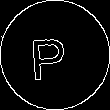P_N: (35, 28, 75, 82)
